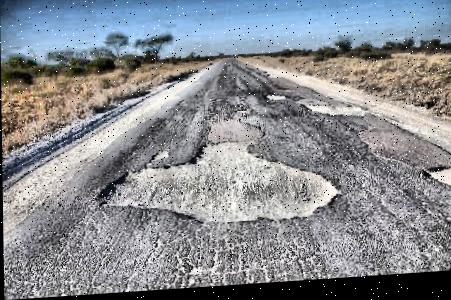pothole: (94, 136, 342, 234), (304, 101, 367, 125), (421, 168, 451, 193), (149, 151, 170, 163), (262, 95, 285, 104)
